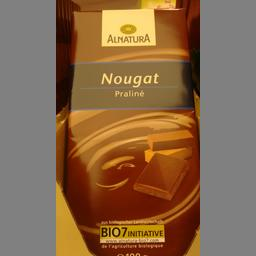chocolate: (63, 6, 198, 252)
